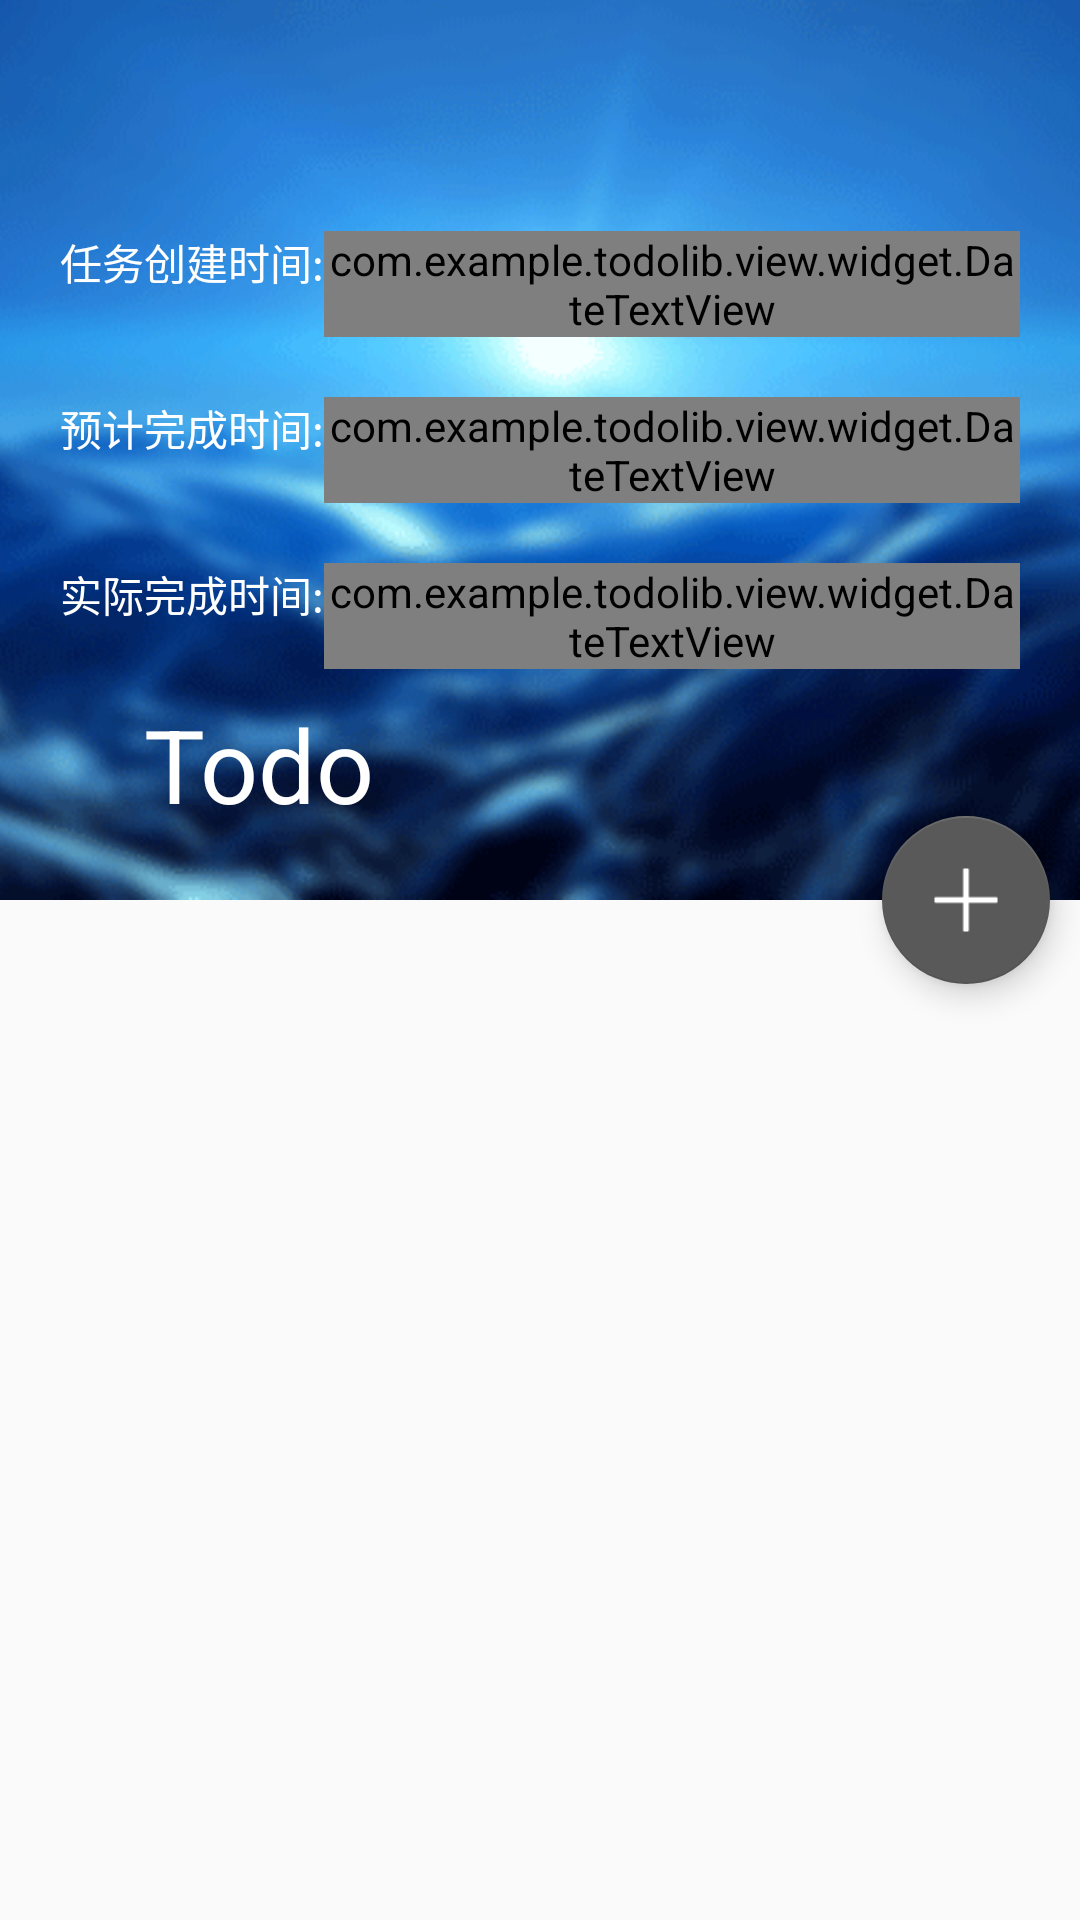

Where to tap for icons on this 1080px x 1920px app screen, as point (x, y):
add: point (966, 900)
